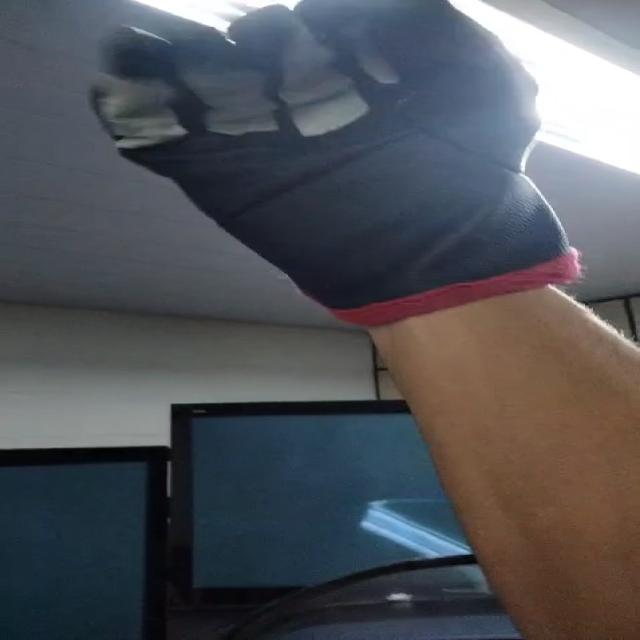Gloves: (91, 0, 582, 331)
